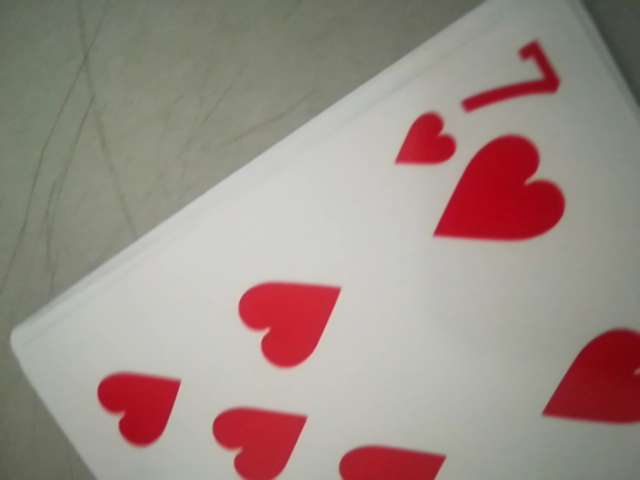hx 7: (396, 35, 565, 166)
